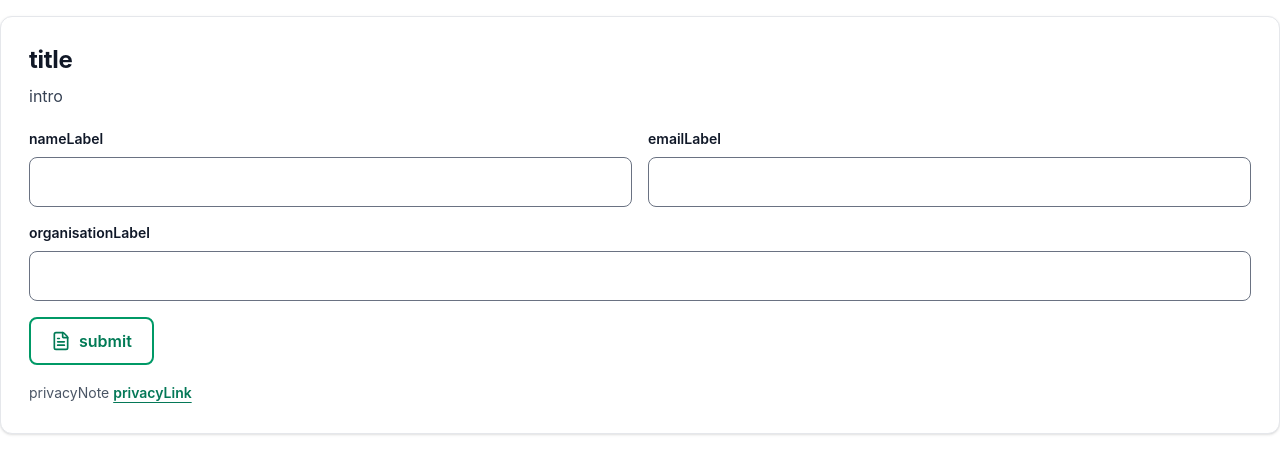
Test: FitCvCard › posts the lead with the session id and reports the event
The width and height of the screenshot is (1280, 452).
Type "Jane Doe" into the field labelled "nameLabel" at (330, 182), box [29,157,632,207]
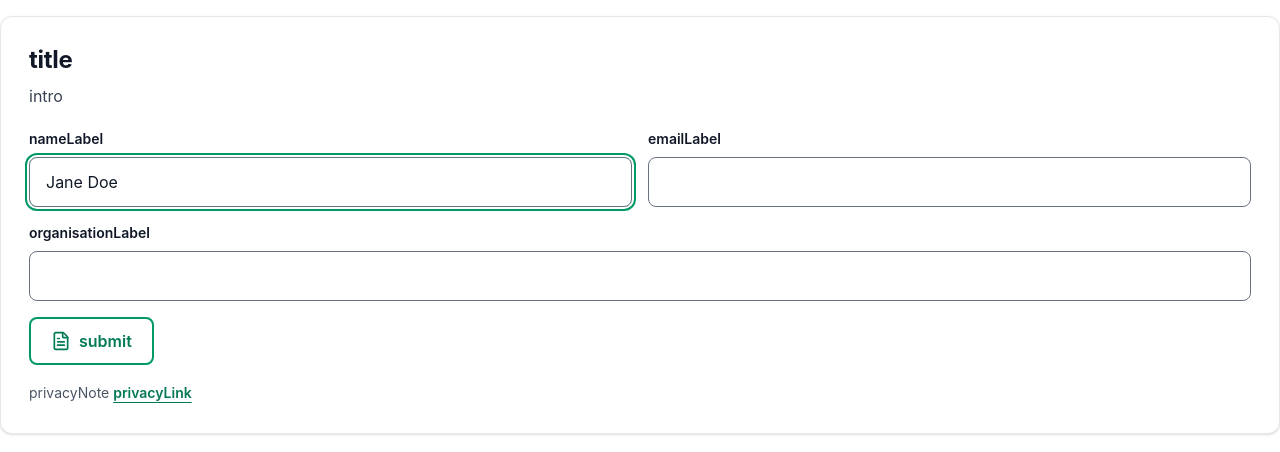
Type "jane@example.com" into the field labelled "emailLabel" at (950, 182), box [648,157,1251,207]
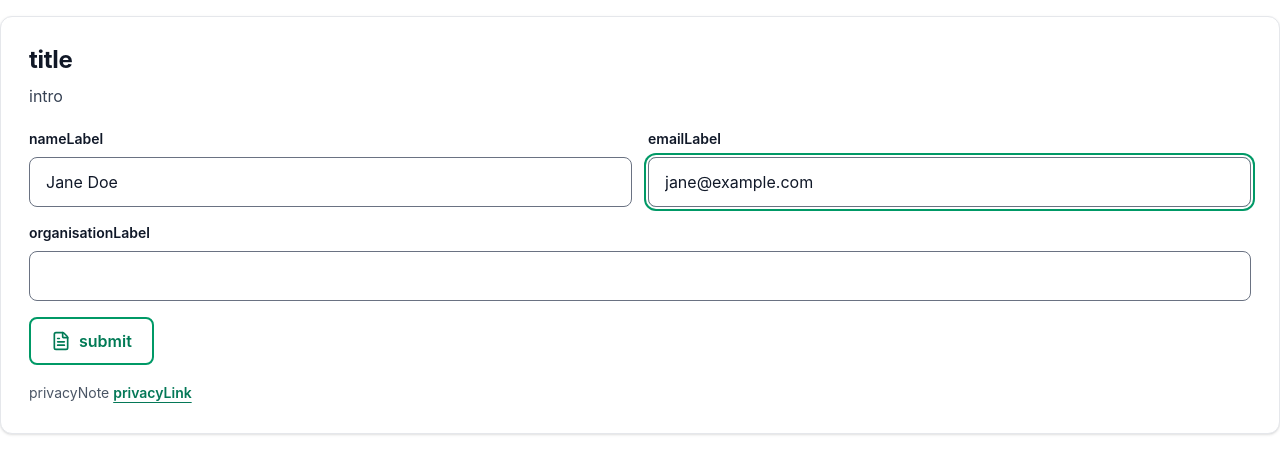
Type "Acme" into the field labelled "organisationLabel" at (640, 276), box [29,251,1251,301]
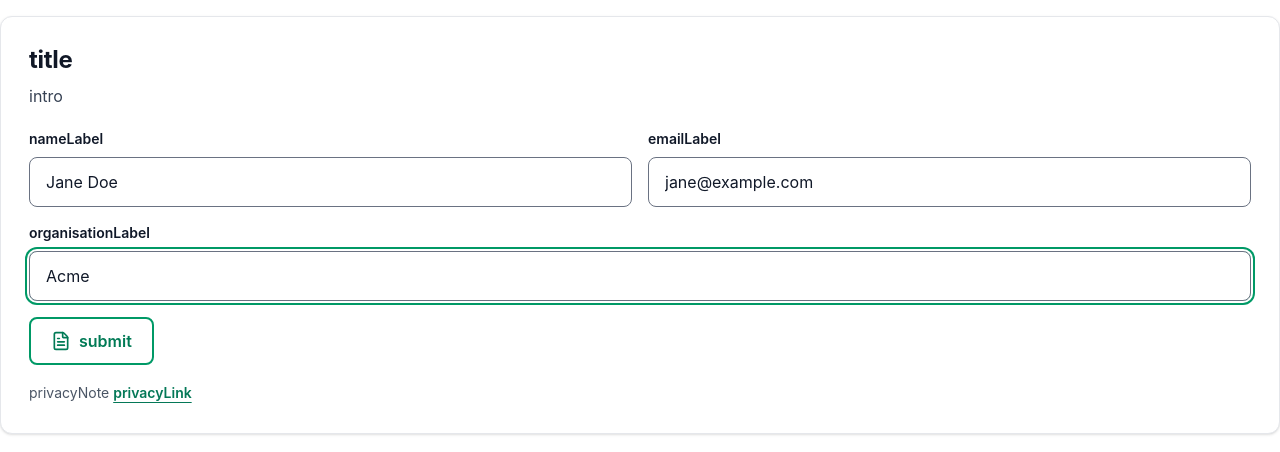
Click the button "submit" at (91, 341), box [29,317,154,365]
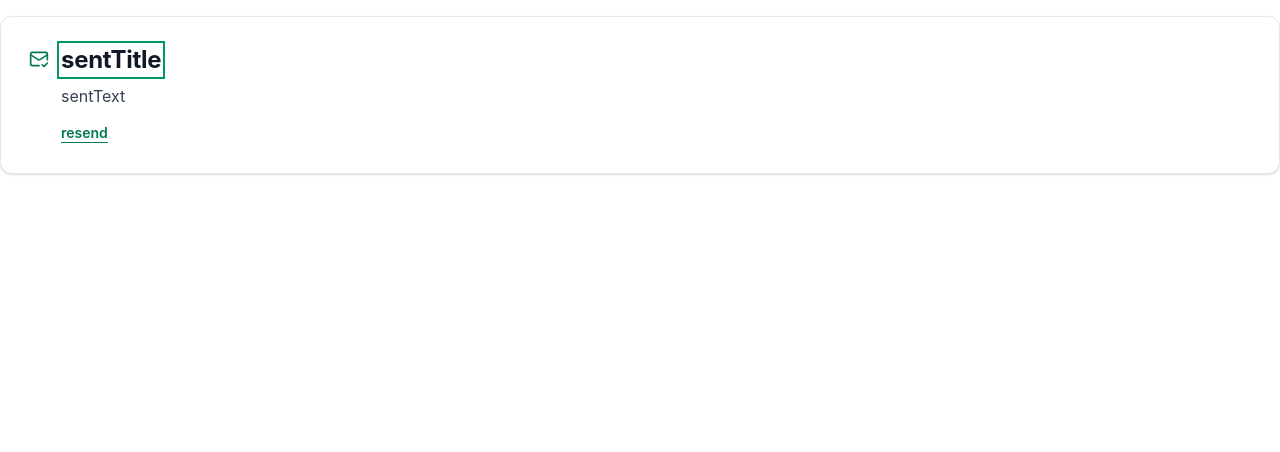
Expected: the heading "sentTitle" is shown, [61,45,161,75]
